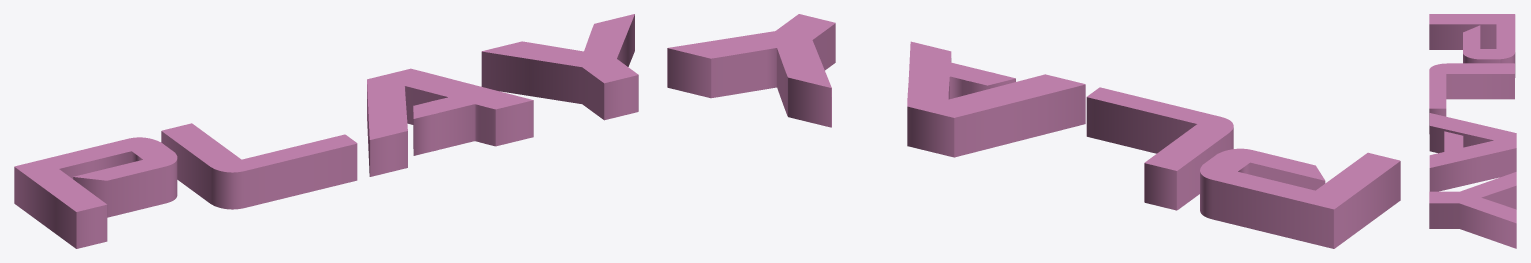
Rendered from play-game.dae.
The picture shows the model from 3 angles, left to right: view 1: azimuth 30°, elevation 25°; view 2: azimuth 150°, elevation 25°; view 3: azimuth 270°, elevation 25°; orthographic projection. The views are drawn at different scales.
Parts seen in each view (by area): view 1: play-game; view 2: play-game; view 3: play-game.
Part boxes in pixels (x1=…): play-game: x1=14, y1=14, x2=638, y2=248; play-game: x1=667, y1=14, x2=1400, y2=248; play-game: x1=1429, y1=14, x2=1516, y2=248.
Size of the model in its own units: 2.81 by 0.4978 by 0.16.
